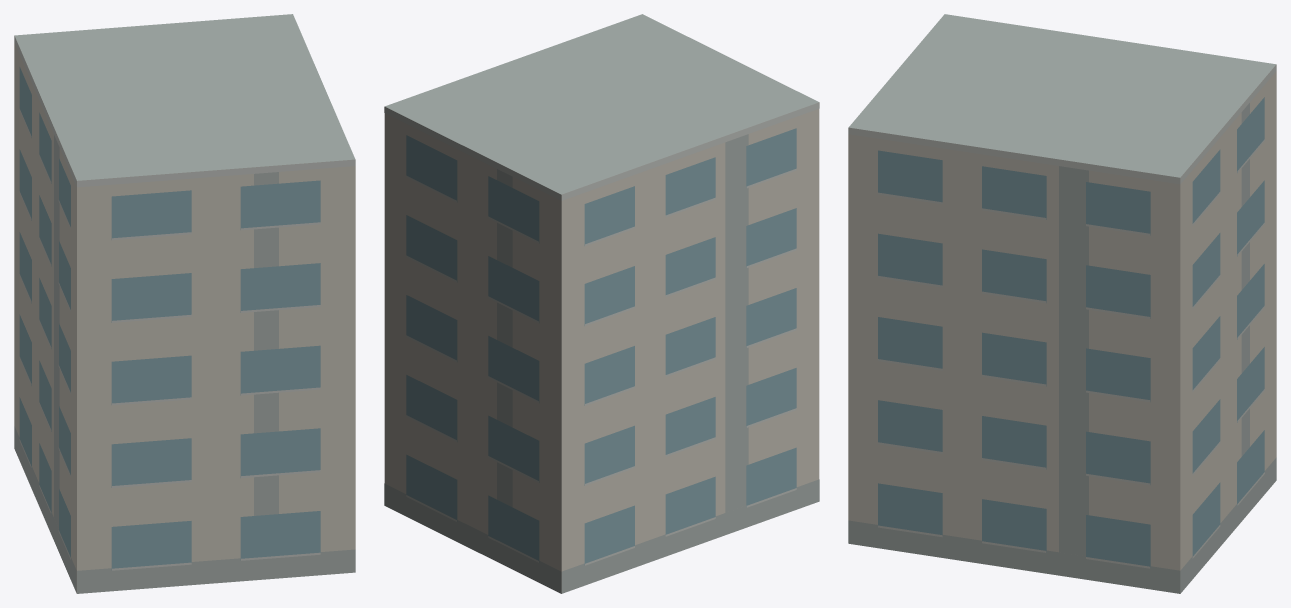
Rendered from residential-c6e4abaf-5a65-44a4-9671-4c0648b2bb81.glb.
3 views of the same model, side by side, from view 1: azimuth 30°, elevation 25°; view 2: azimuth 150°, elevation 25°; view 3: azimuth 270°, elevation 25° (orthographic). The views are drawn at different scales.
Parts seen in each view (by area): view 1: residential-c6e4abaf-5a65-44a4-9671-4c0648b2bb81.tmp; view 2: residential-c6e4abaf-5a65-44a4-9671-4c0648b2bb81.tmp; view 3: residential-c6e4abaf-5a65-44a4-9671-4c0648b2bb81.tmp.
Part boxes in pixels (x1,y1,x2,y2): residential-c6e4abaf-5a65-44a4-9671-4c0648b2bb81.tmp: (14,14,355,593); residential-c6e4abaf-5a65-44a4-9671-4c0648b2bb81.tmp: (384,14,819,593); residential-c6e4abaf-5a65-44a4-9671-4c0648b2bb81.tmp: (848,14,1276,593).
Size of the model in its own units: 12.88 by 15.25 by 14.23.
